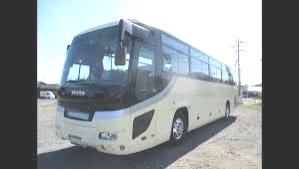bus: (58, 16, 238, 155)
